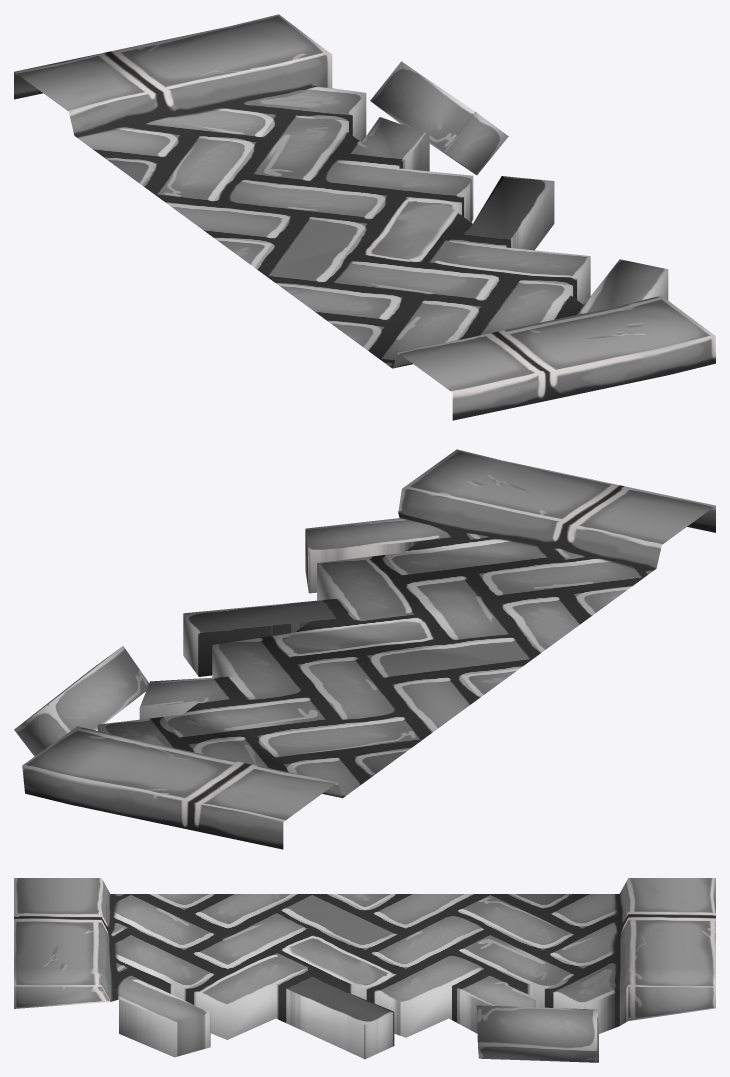
The model's file is Road Broken Edge.fbx.
The picture shows the model from 3 angles, top to bottom: view 1: azimuth 30°, elevation 25°; view 2: azimuth 150°, elevation 25°; view 3: azimuth 270°, elevation 25°; orthographic projection. The views are drawn at different scales.
Parts seen in each view (by area): view 1: BrokenRoad; view 2: BrokenRoad; view 3: BrokenRoad.
Boxes of the visible parts, x1=… form: BrokenRoad: x1=14, y1=14, x2=715, y2=420; BrokenRoad: x1=14, y1=449, x2=715, y2=849; BrokenRoad: x1=14, y1=878, x2=715, y2=1062.
Bounding box in the file's own units: 1.6 × 0.3387 × 3.5.
